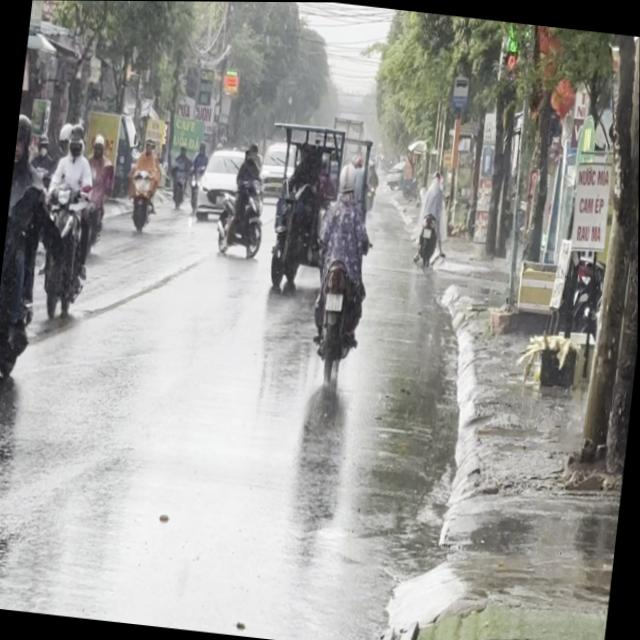helmet: (13, 110, 34, 170), (336, 159, 358, 197), (66, 121, 85, 156), (56, 120, 73, 154)
licenseplate: (302, 153, 382, 384), (0, 106, 59, 403), (29, 116, 105, 327)
nohelmet: (325, 290, 343, 310)
